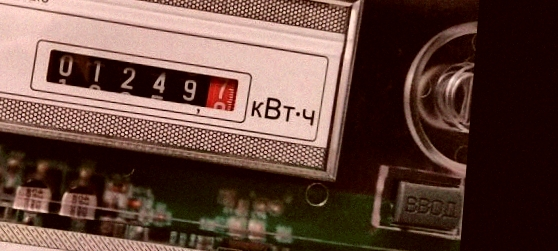0: (56, 51, 75, 78)
1: (87, 56, 103, 83)
2: (117, 65, 136, 92)
4: (150, 68, 168, 94)
7: (213, 74, 230, 101)
9: (178, 75, 197, 103)
screen: (26, 37, 255, 127)
